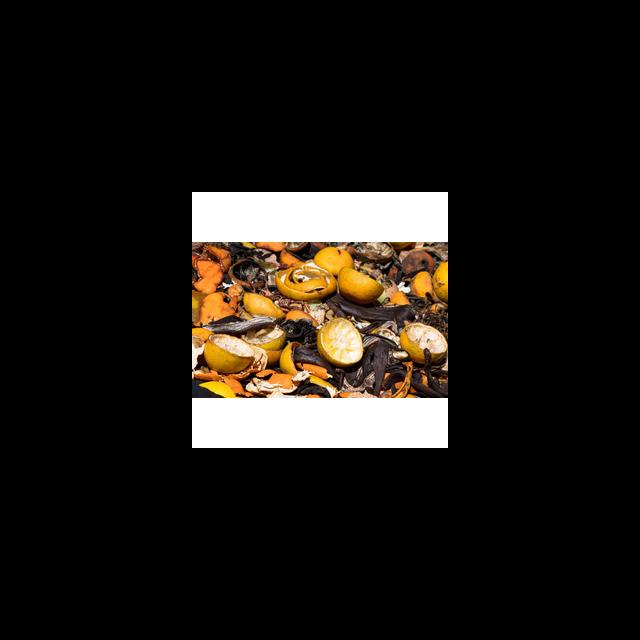food_waste: (194, 243, 446, 394)
